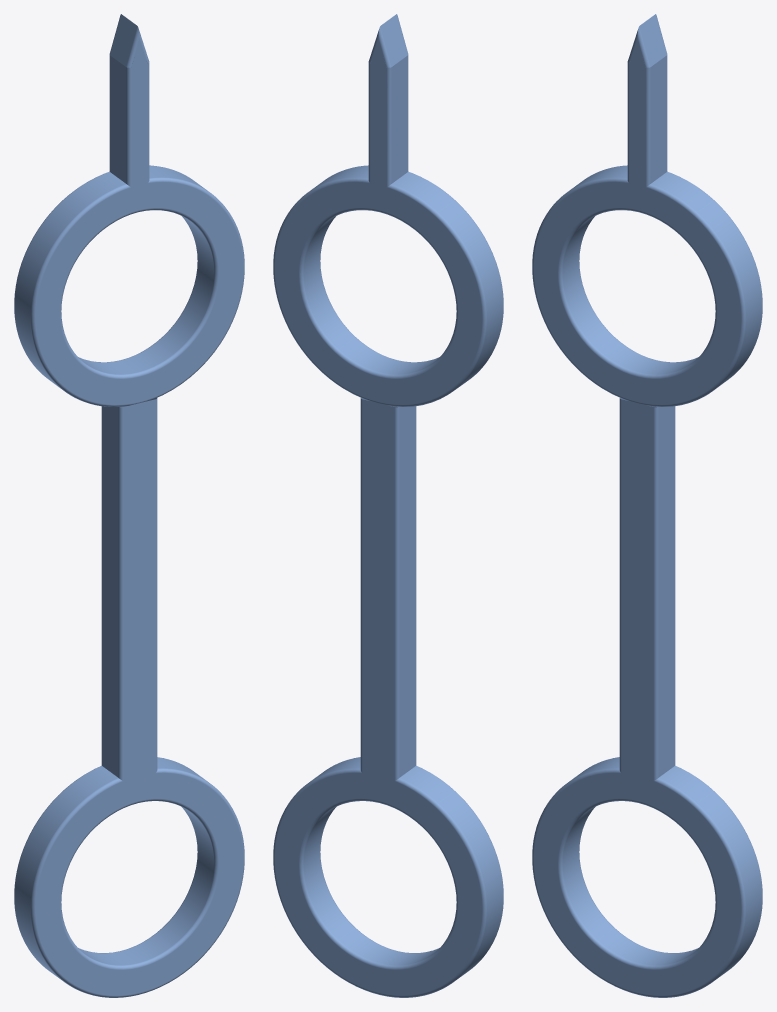
Rendered from Hand.glb.
3 views of the same model, side by side, from view 1: azimuth 30°, elevation 25°; view 2: azimuth 150°, elevation 25°; view 3: azimuth 330°, elevation 25° (orthographic).
Visible parts, largest first — view 1: Hand; view 2: Hand; view 3: Hand.
Part boxes in pixels (<box>): Hand: <box>14,14,244,997</box>; Hand: <box>273,14,503,997</box>; Hand: <box>532,14,762,997</box>.
Size of the model in its own units: 1.34 by 5.79 by 0.2157.
